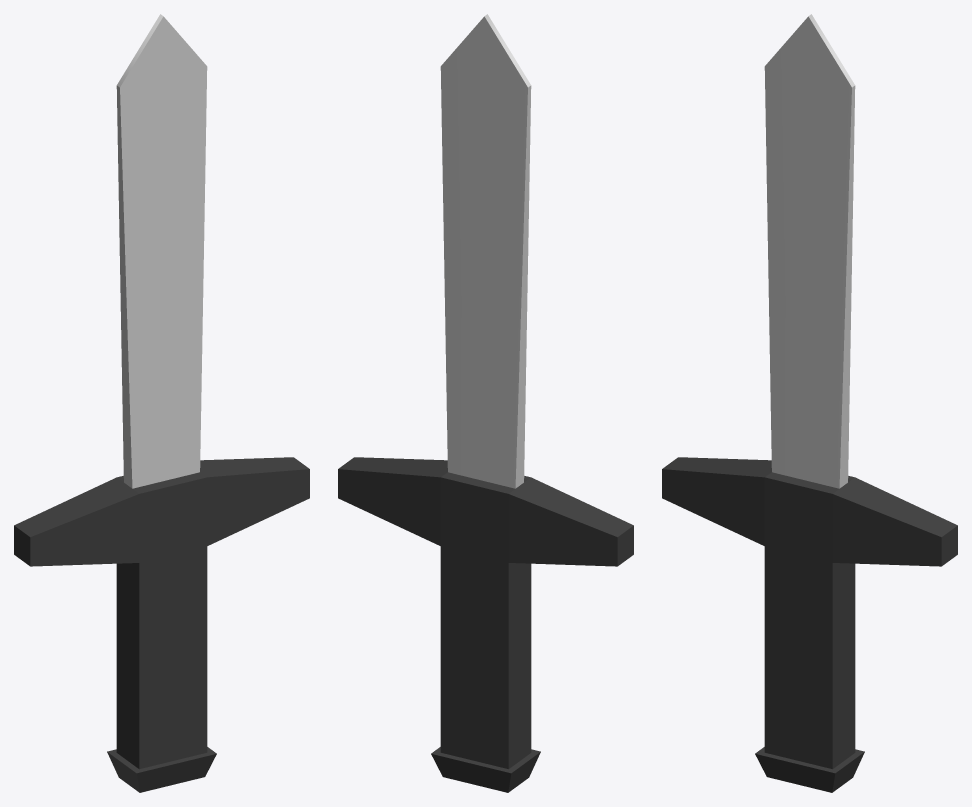
The model's file is Sword.fbx.
3 views of the same model, side by side, from view 1: azimuth 30°, elevation 25°; view 2: azimuth 150°, elevation 25°; view 3: azimuth 330°, elevation 25° (orthographic).
Parts seen in each view (by area): view 1: pCube1; view 2: pCube1; view 3: pCube1.
Part boxes in pixels (<box>): pCube1: <box>14,14,309,792</box>; pCube1: <box>338,14,633,792</box>; pCube1: <box>662,14,957,792</box>.
Bounding box in the file's own units: 4.1 × 10.69 × 0.7554.
Materials: 1 (1 with a texture image).
